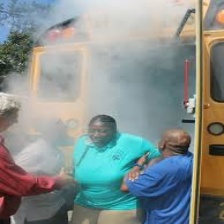smoke: (97, 13, 171, 123), (14, 57, 70, 163)
